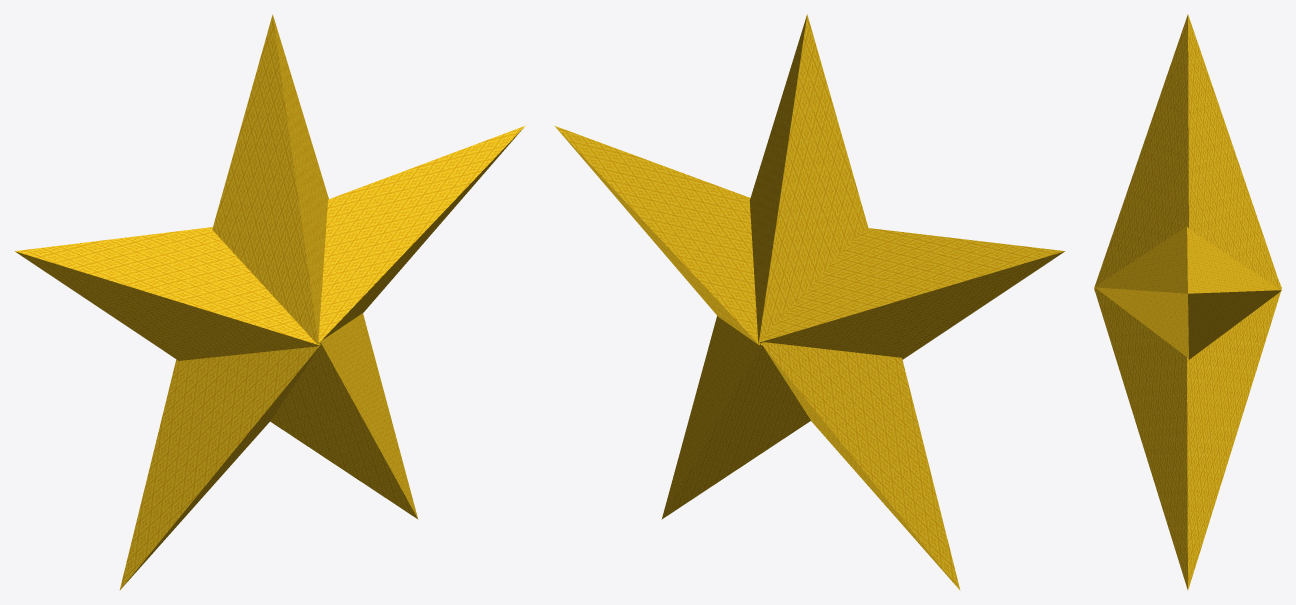
File: star.FBX
3 renders of one model, left to right at view 1: azimuth 30°, elevation 25°; view 2: azimuth 150°, elevation 25°; view 3: azimuth 270°, elevation 25°, orthographic. The views are drawn at different scales.
Visible parts, largest first — view 1: Pyramid001, Pyramid005, Pyramid002, Pyramid004, Pyramid003; view 2: Pyramid001, Pyramid005, Pyramid002, Pyramid004, Pyramid003; view 3: Pyramid003, Pyramid005, Pyramid004.
Part boxes in pixels (<box>): Pyramid001: <box>14,227,319,360</box>; Pyramid005: <box>212,14,328,343</box>; Pyramid002: <box>119,343,320,590</box>; Pyramid004: <box>318,126,524,342</box>; Pyramid003: <box>270,313,418,519</box>; Pyramid001: <box>759,227,1065,359</box>; Pyramid005: <box>749,14,868,343</box>; Pyramid002: <box>761,342,960,590</box>; Pyramid004: <box>555,126,760,345</box>; Pyramid003: <box>661,316,810,519</box>; Pyramid003: <box>1094,288,1280,589</box>; Pyramid005: <box>1094,14,1281,289</box>; Pyramid004: <box>1094,226,1281,359</box>.
Bounding box in the file's own units: 3236 × 3273 × 1092.
1 material, 1 textured.
